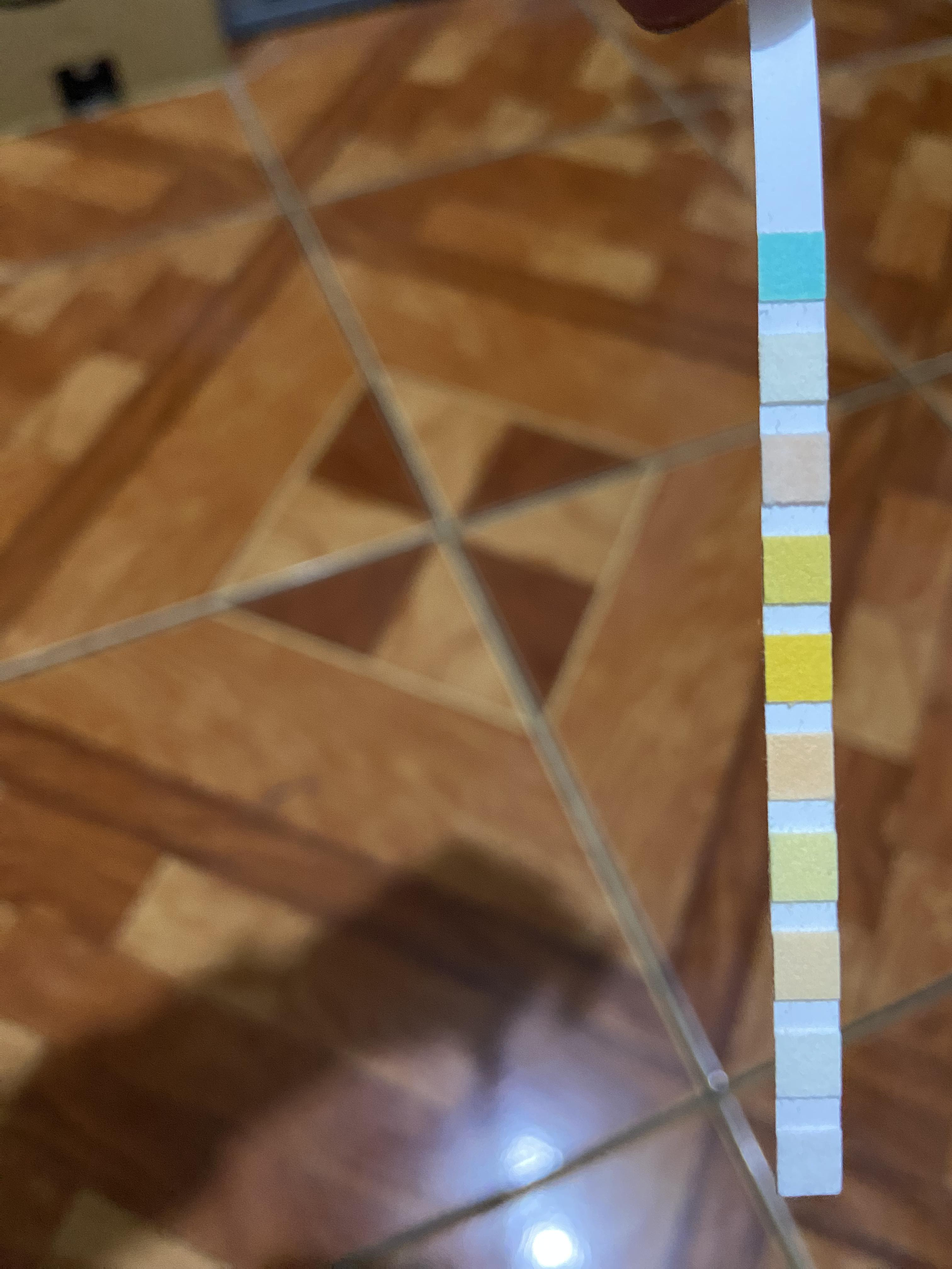Bilirubin: (760, 335, 827, 403)
Blood: (766, 636, 832, 700)
Glucose: (759, 235, 826, 299)
Ketone: (761, 436, 830, 504)
Leukocytes: (777, 1132, 841, 1195)
Nitrite: (775, 1033, 841, 1096)
Protein: (770, 834, 838, 899)
SpGravity: (764, 536, 831, 603)
Urobilinogen: (775, 934, 838, 999)
pH: (767, 735, 835, 799)
strip: (753, 31, 842, 1195)
